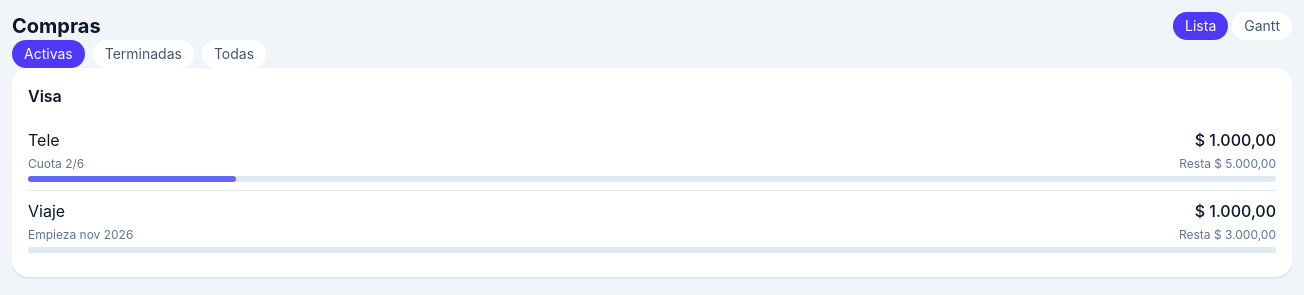
Test case: PurchasesPage › filtra terminadas
expect the text "Tele" is shown: met, box [28, 128, 60, 152]
expect the text "Viaje" is shown: met, box [28, 199, 65, 223]
What coordinates should you click on to do the following:
click the button "Terminadas"
I would click on:
 (143, 54)
Its box is [93, 40, 194, 68].
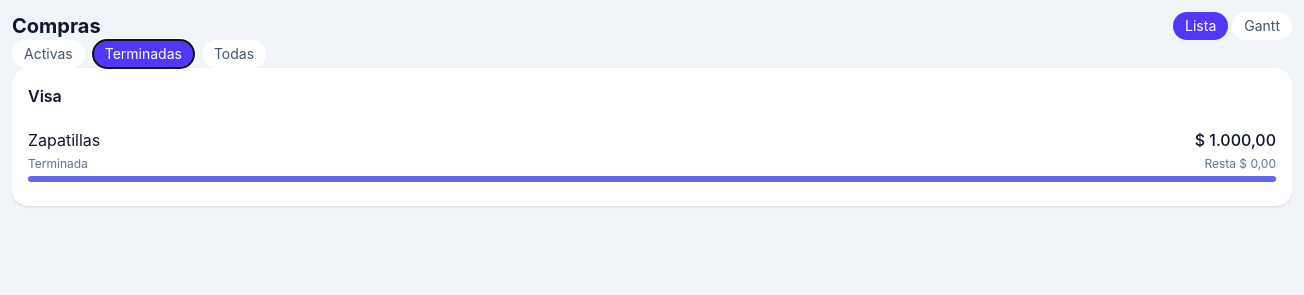
expect the text "Zapatillas" is shown: met, box [28, 128, 100, 152]
expect the link "Tele" is gone: met
